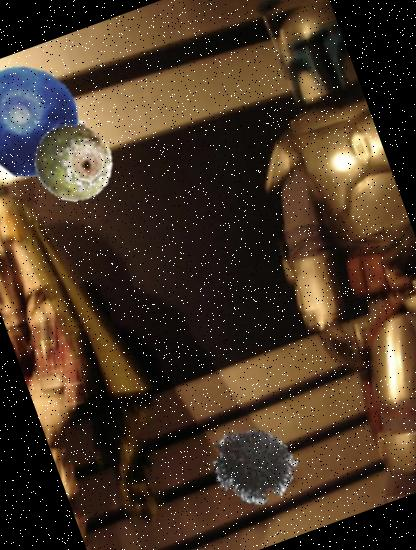Cactus: (21, 107, 126, 212)
Huckleberry: (0, 46, 97, 191)
Rambutan: (199, 408, 308, 517)
